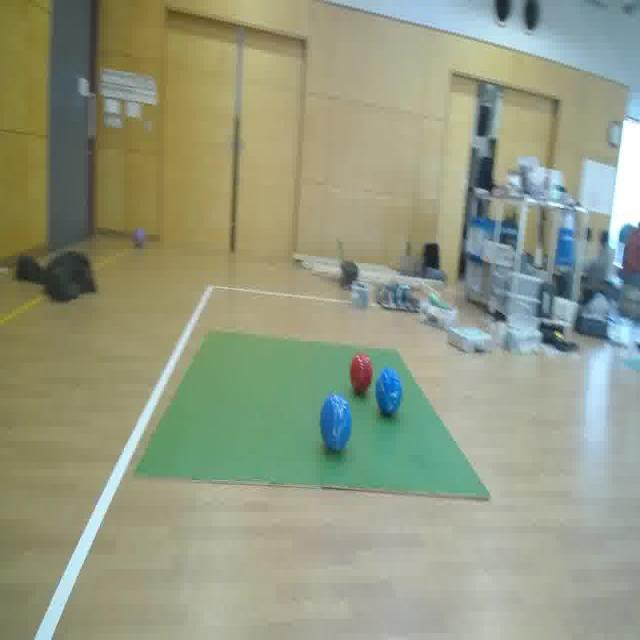blue_ball: (320, 392, 352, 452), (374, 365, 402, 416)
purple_ball: (134, 229, 150, 252)
red_ball: (350, 352, 376, 397)
